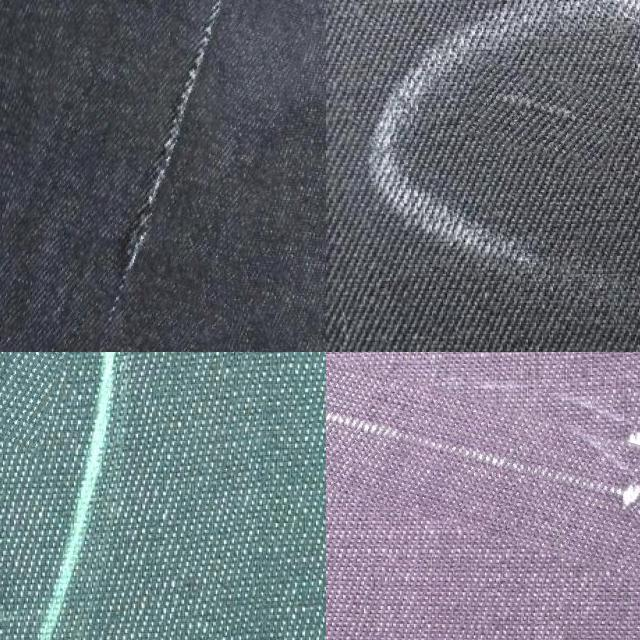stains: (6, 0, 307, 352), (326, 354, 640, 562), (464, 70, 620, 164), (0, 352, 86, 450)
